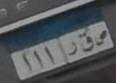1: (20, 51, 33, 72), (33, 48, 44, 69), (45, 45, 56, 65)
qaaf: (79, 30, 94, 53)
raa: (68, 38, 78, 58)
saad: (95, 28, 107, 47)
